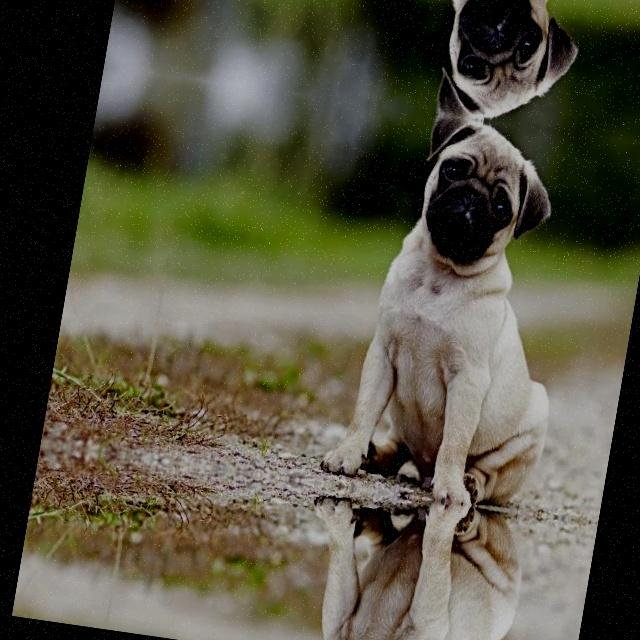dog: (333, 107, 598, 514), (304, 484, 534, 640), (397, 0, 626, 136)
